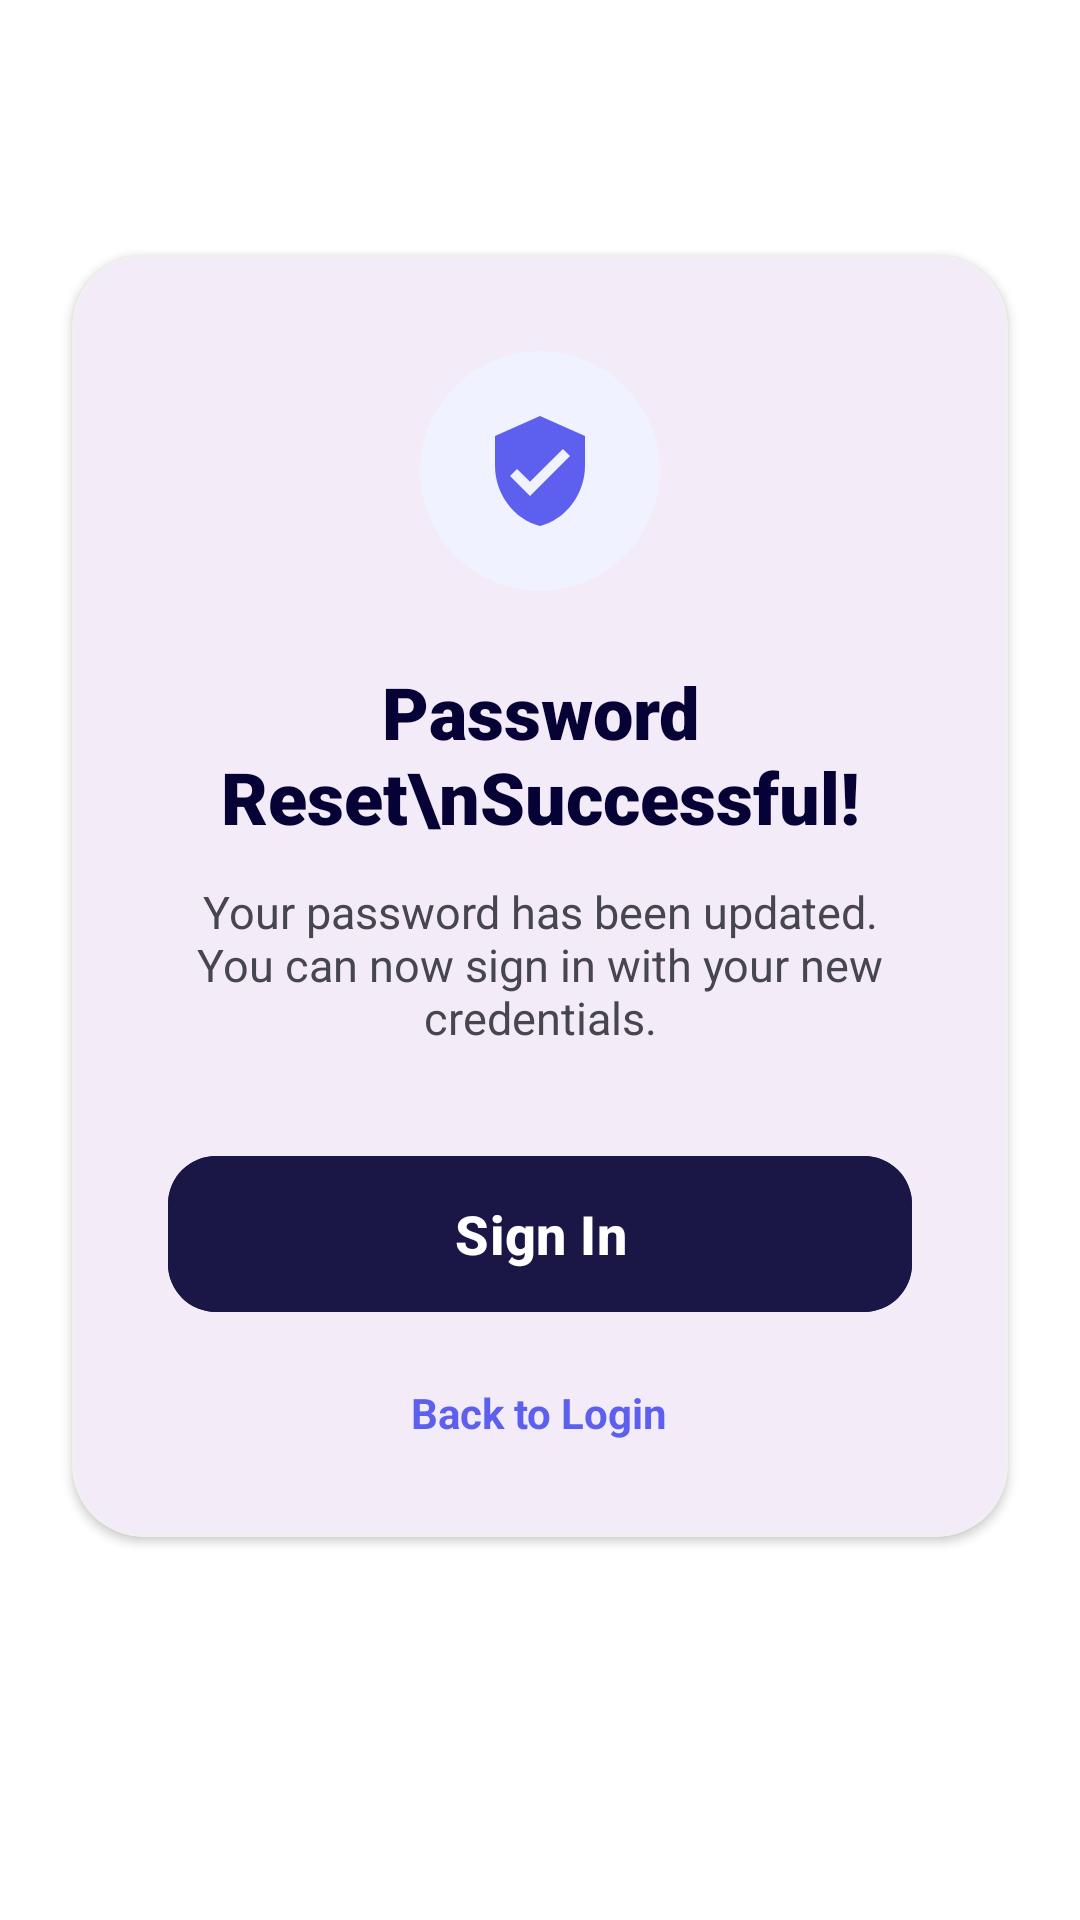

Icons on this 1080px×1920px Android screen, each with its box as (x1, y1, x2, y2):
certified: (495, 416, 585, 526)
